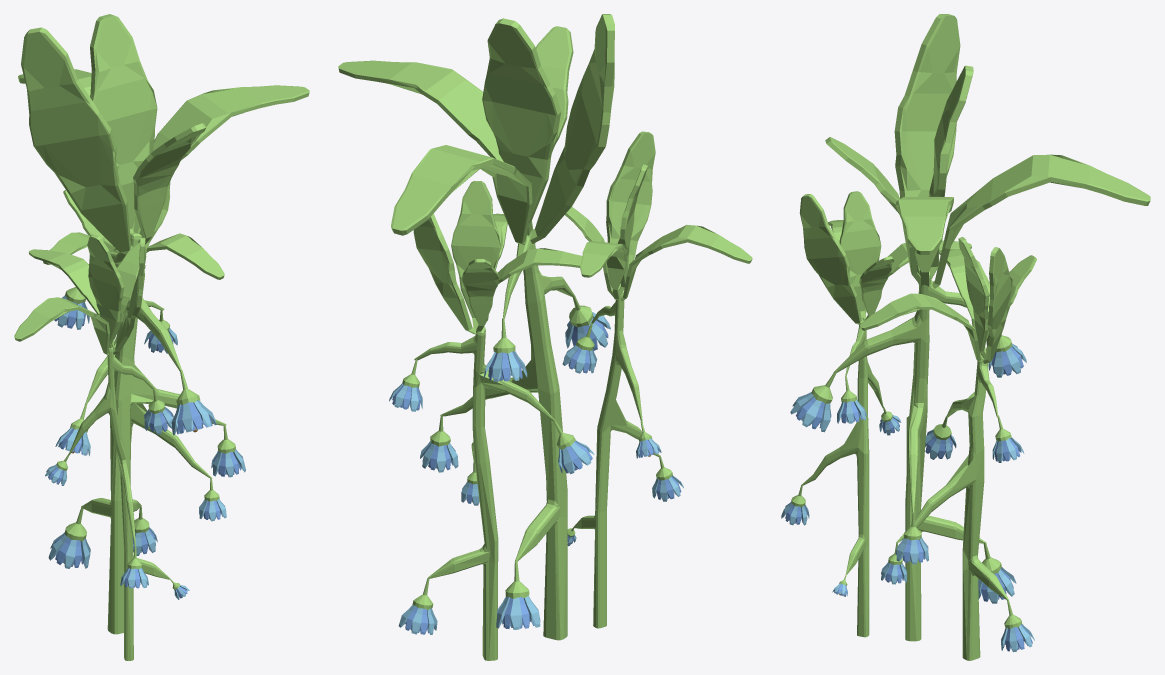
File: Spring_Flower_2.fbx
The picture shows the model from 3 angles, left to right: view 1: azimuth 30°, elevation 25°; view 2: azimuth 150°, elevation 25°; view 3: azimuth 270°, elevation 25°; orthographic projection. The views are drawn at different scales.
Parts seen in each view (by area): view 1: Cube.038; view 2: Cube.038; view 3: Cube.038.
Boxes of the visible parts, x1,y1,x2,y2 form: Cube.038: (14,14,309,660); Cube.038: (338,14,752,660); Cube.038: (781,14,1150,660).
Bounding box in the file's own units: 171 × 296 × 166.
